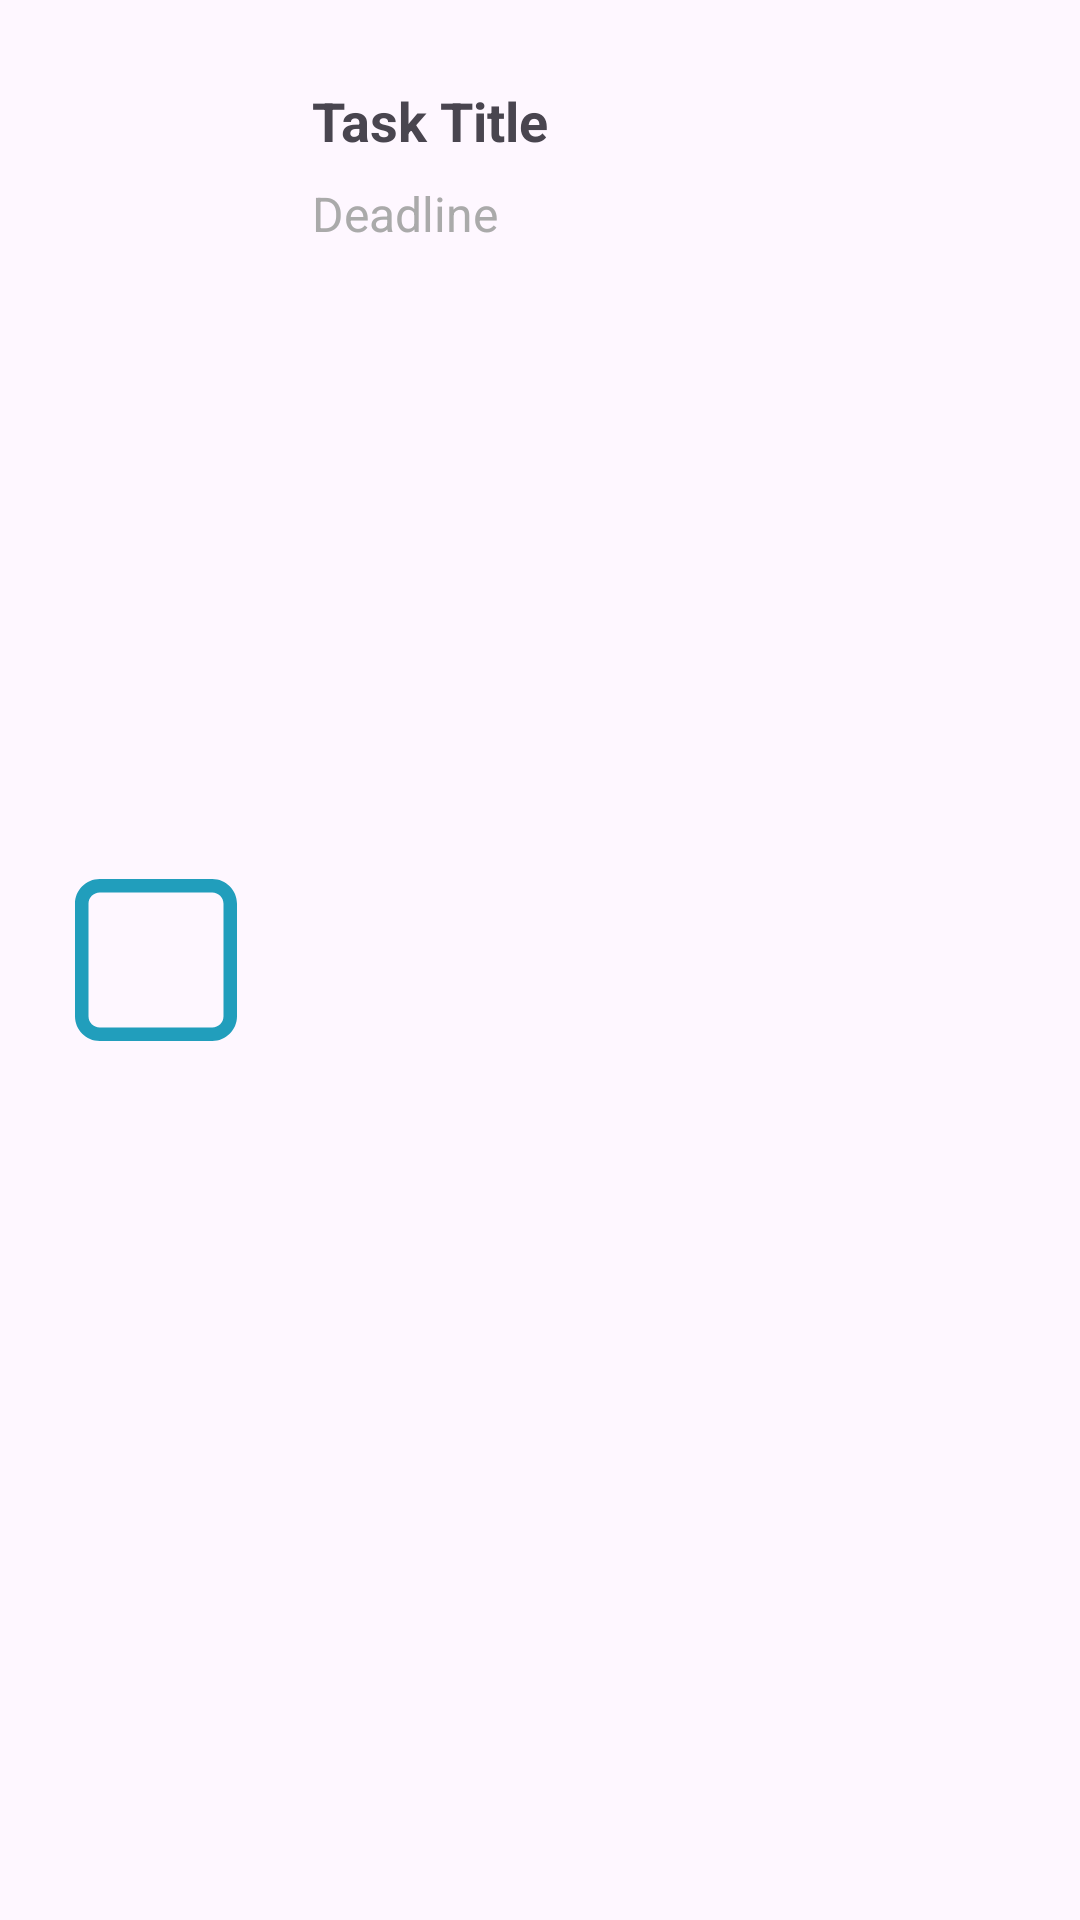

Icons on this 1080px×1920px Android screen, each with the point to tap as (x=x, y=y):
undone: (x=156, y=960)
